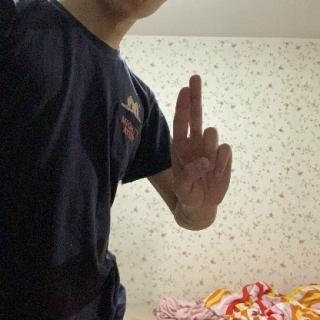TA: (162, 68, 236, 218)
